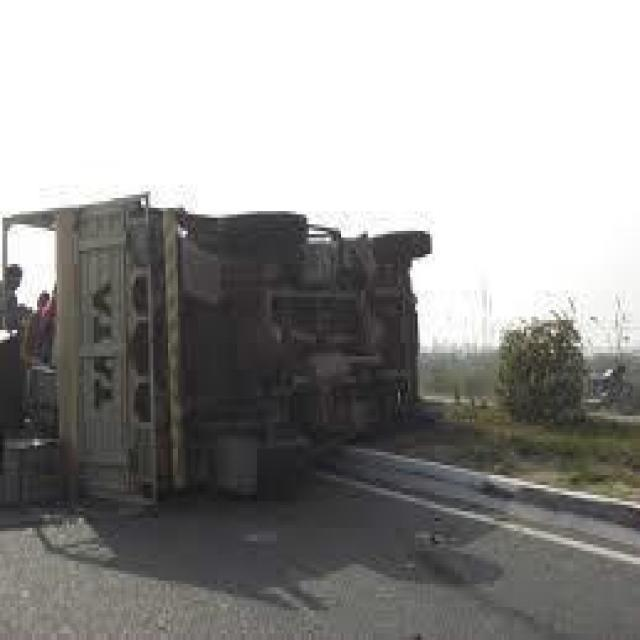severe: (2, 192, 445, 512)
